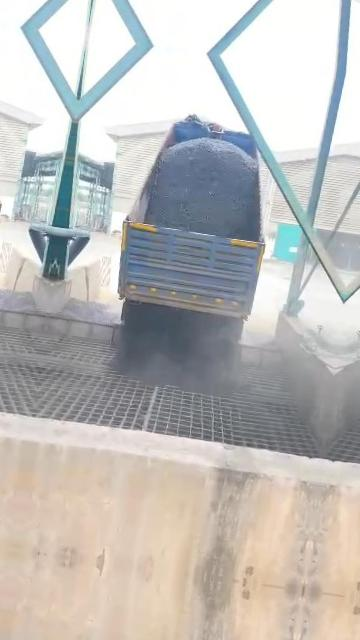gravel: (145, 137, 260, 240), (116, 303, 243, 393), (56, 298, 119, 325)
